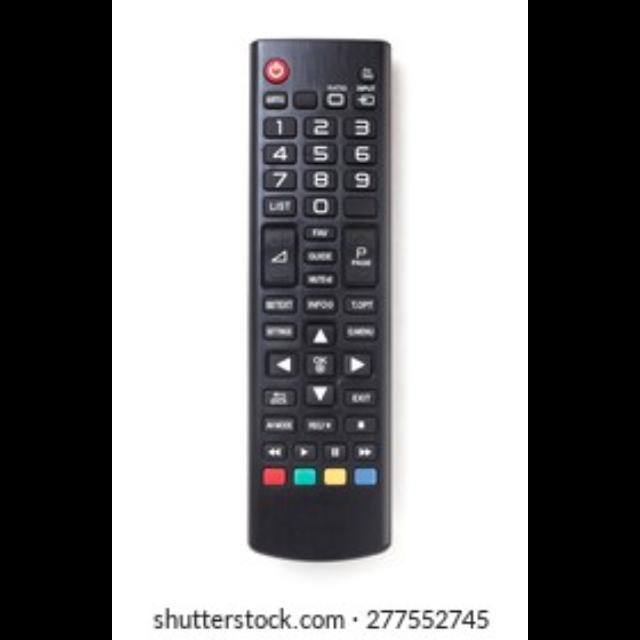TV-Remote-Control: (245, 37, 402, 565)
